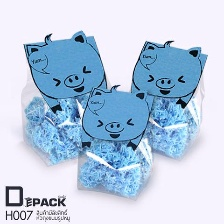snack: (14, 24, 117, 171), (120, 33, 212, 164), (71, 78, 158, 205)
